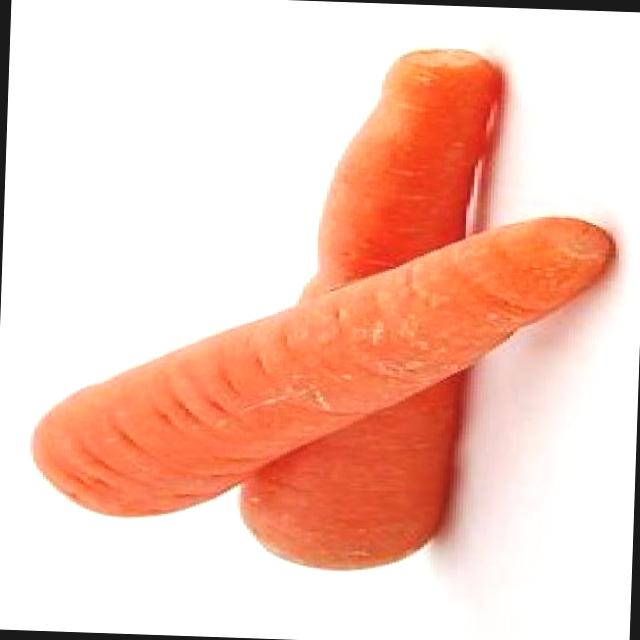carrot: (31, 213, 617, 517)
